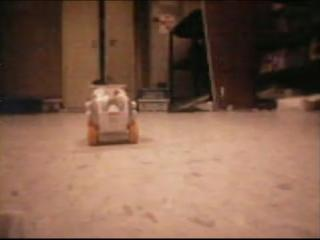cozmo: (84, 83, 140, 146)
